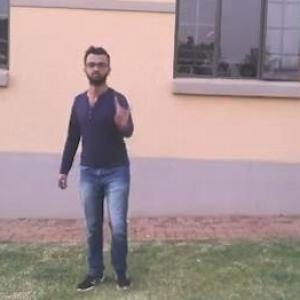takeoff-hand: (109, 95, 140, 133)
